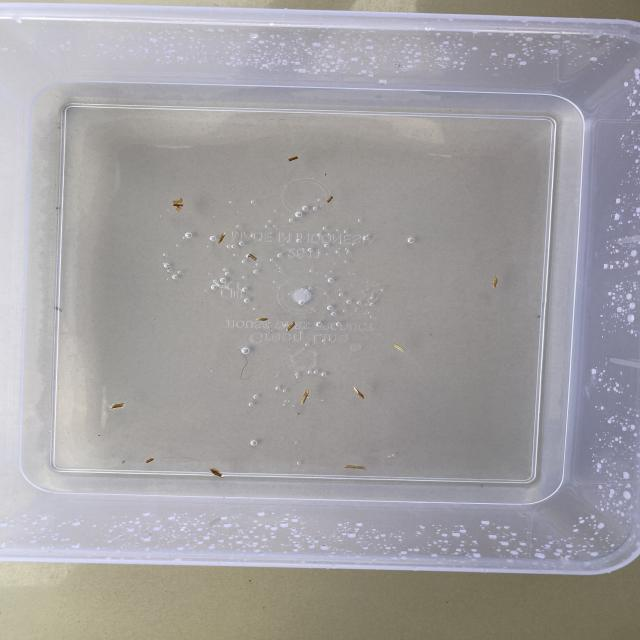Wereng: (167, 195, 191, 216), (203, 464, 229, 482), (298, 386, 316, 406), (284, 152, 306, 168), (213, 228, 230, 248), (343, 464, 370, 476), (488, 273, 504, 293), (350, 382, 366, 402), (106, 398, 127, 412), (284, 319, 300, 335), (390, 341, 406, 356), (257, 312, 274, 326), (142, 454, 159, 468), (243, 250, 260, 263), (322, 194, 338, 207)
